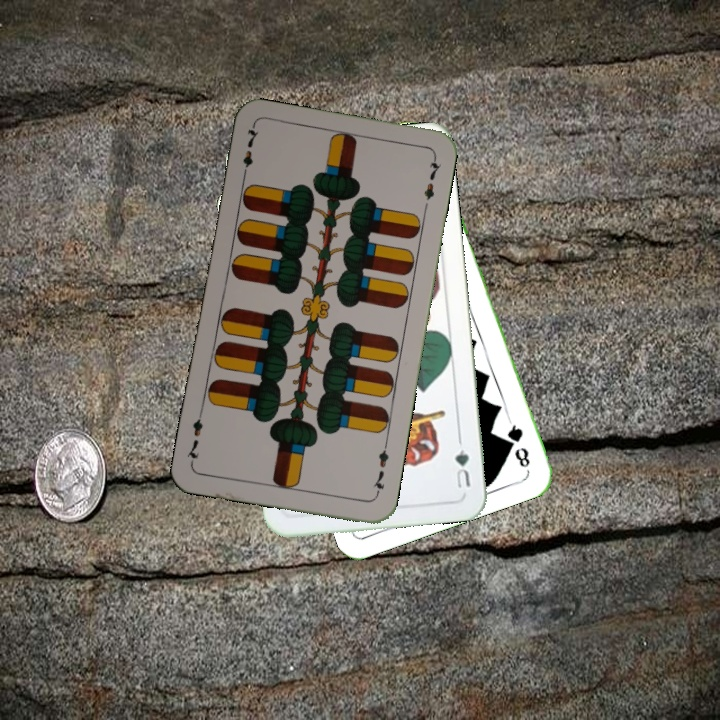E7: (238, 123, 262, 182), (369, 440, 392, 499)
G8: (503, 416, 533, 471)
GU: (450, 445, 473, 491)
